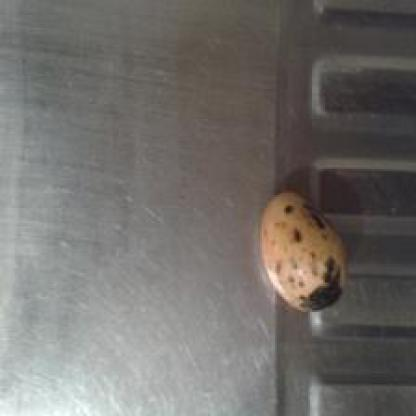mango_rotten: (258, 188, 349, 312)
